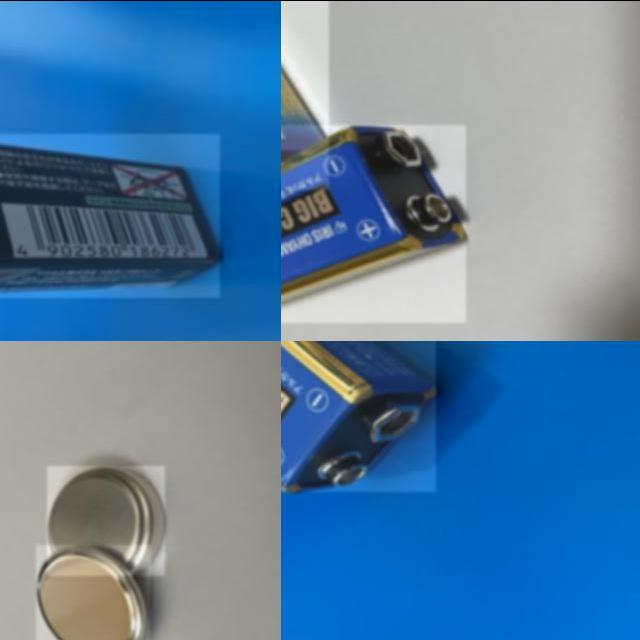9V: (281, 124, 466, 322), (0, 133, 220, 297), (281, 340, 436, 491)
